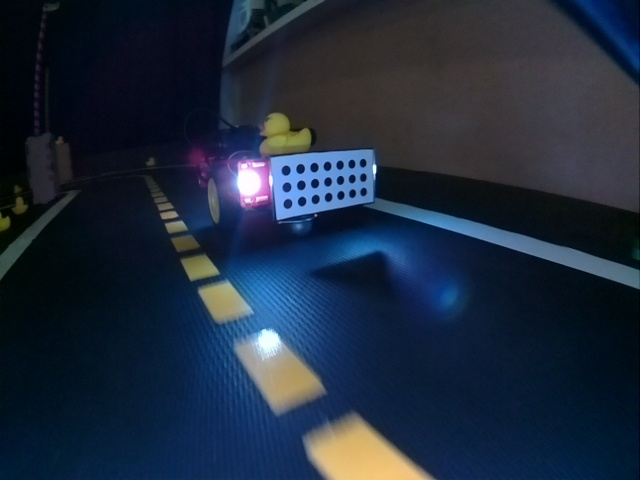Duckie: (258, 112, 311, 154), (12, 197, 27, 214), (1, 215, 10, 231), (146, 157, 156, 167), (55, 136, 64, 146), (13, 184, 22, 194)
Duckiebot: (197, 128, 363, 226)
